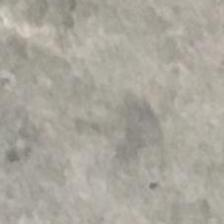Non_Crack: (19, 9, 209, 170)
